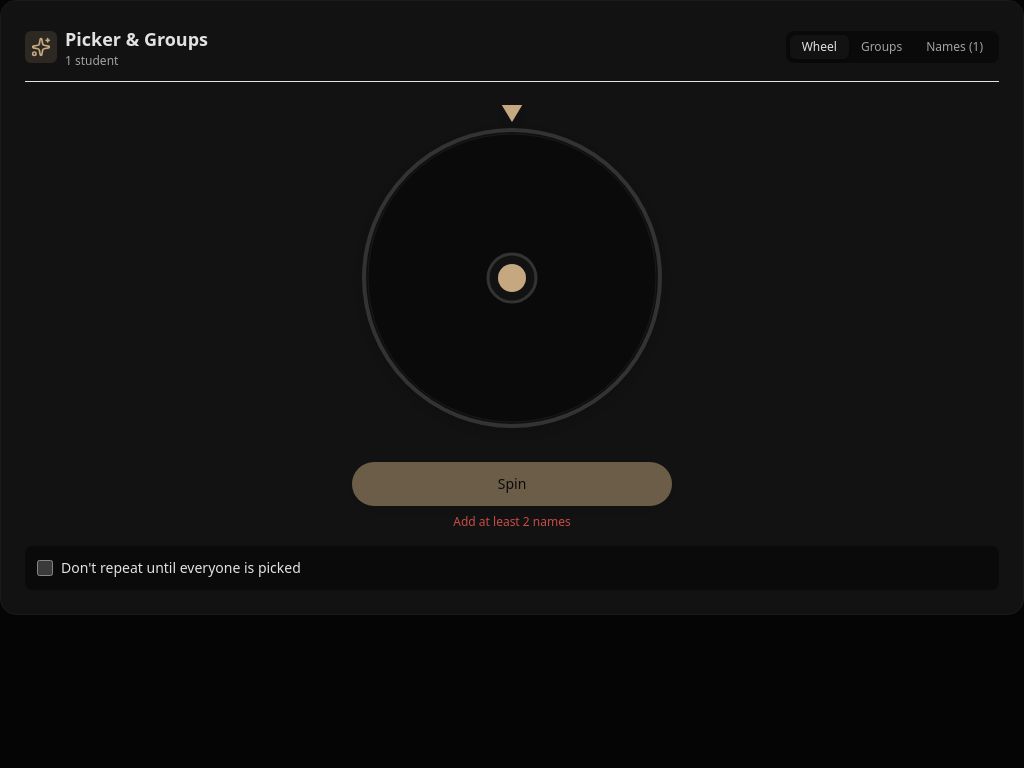
Test: ClassroomPicker (SDD/2026-10-03_06-sorteador-de-alunos-e-grupos.md) › CT09 / CA09: disables Spin when < 2 students with 'Add at least 2 names'; shows error for groups > students
This screenshot has width=1024, height=768.
Check: the button "Spin" is disabled, box [352, 462, 672, 506]
Check: the text "Add at least 2 names" is shown, box [453, 514, 571, 530]
Step 1. Click the tab "Groups" → (882, 47), box [849, 35, 914, 59]
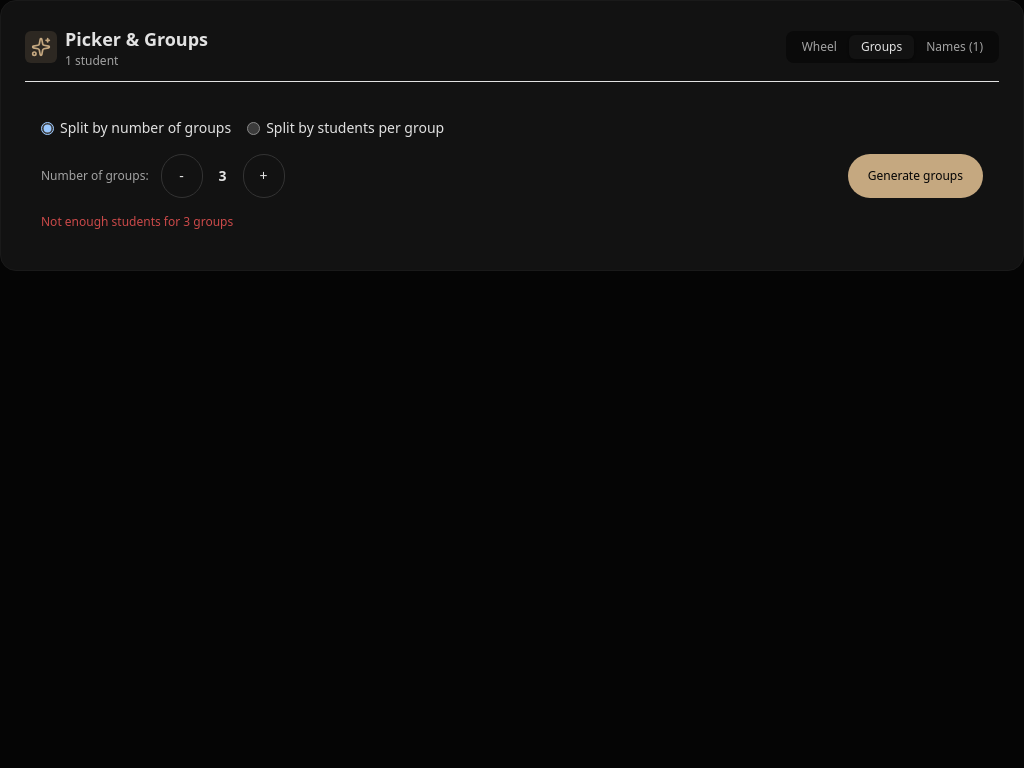
Check: the text "Not enough students for 3 groups" is shown, box [41, 213, 233, 230]
